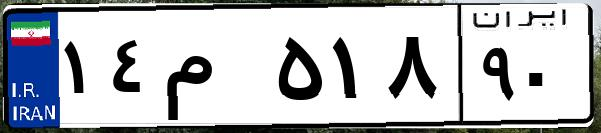0: (525, 38, 570, 115)
1: (330, 28, 385, 110), (57, 26, 110, 100)
4: (110, 28, 158, 98)
5: (270, 28, 330, 110)
8: (385, 28, 445, 110)
9: (475, 38, 525, 113)
م: (158, 20, 270, 120)
